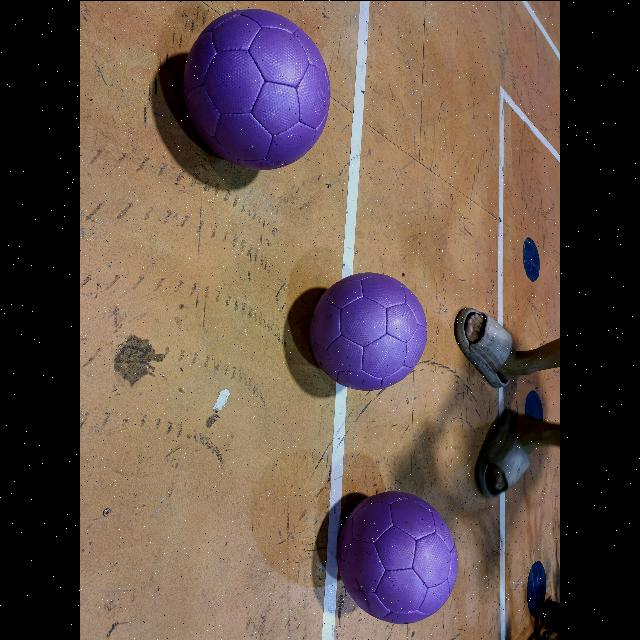P: (184, 8, 330, 168), (338, 491, 458, 623), (309, 272, 426, 390)
